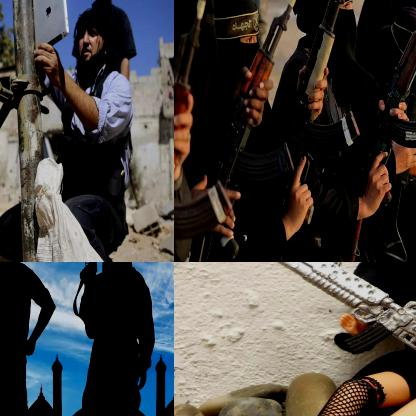rifle: (181, 0, 313, 261), (232, 262, 415, 396), (277, 0, 363, 225), (349, 0, 415, 259), (174, 0, 230, 261), (68, 262, 99, 286)
